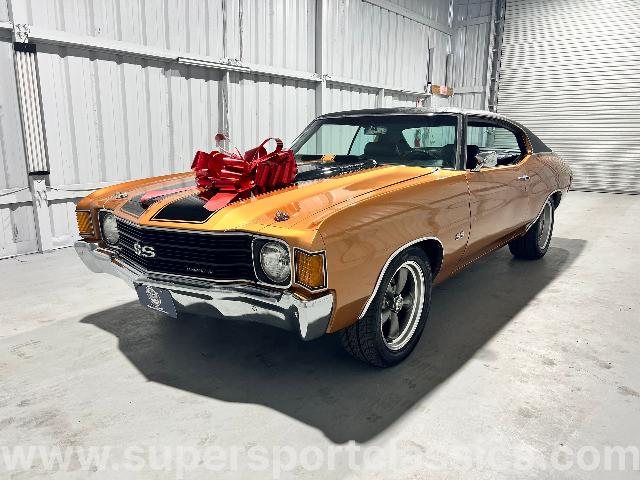chevelle-1972: (75, 107, 572, 366)
